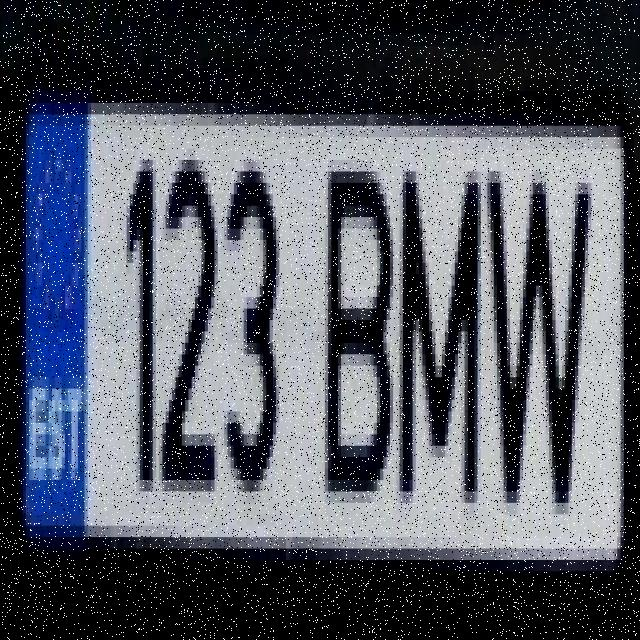licenseplate: (22, 77, 634, 580)
